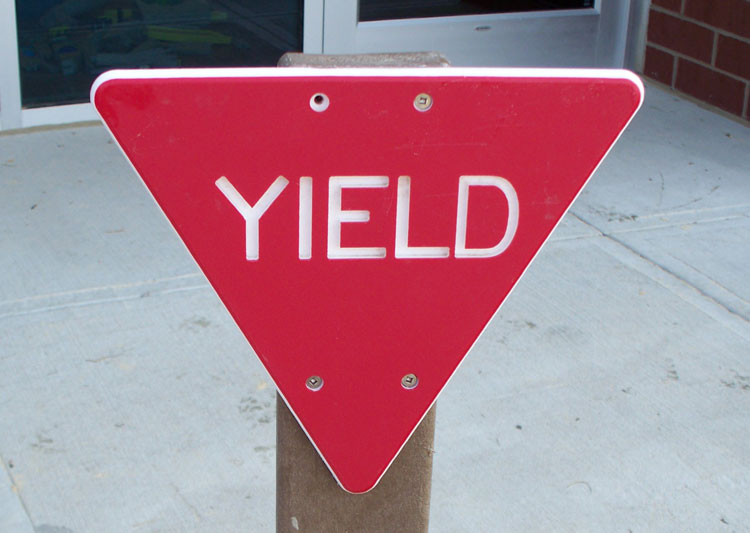yield_sign: (88, 62, 654, 492)
